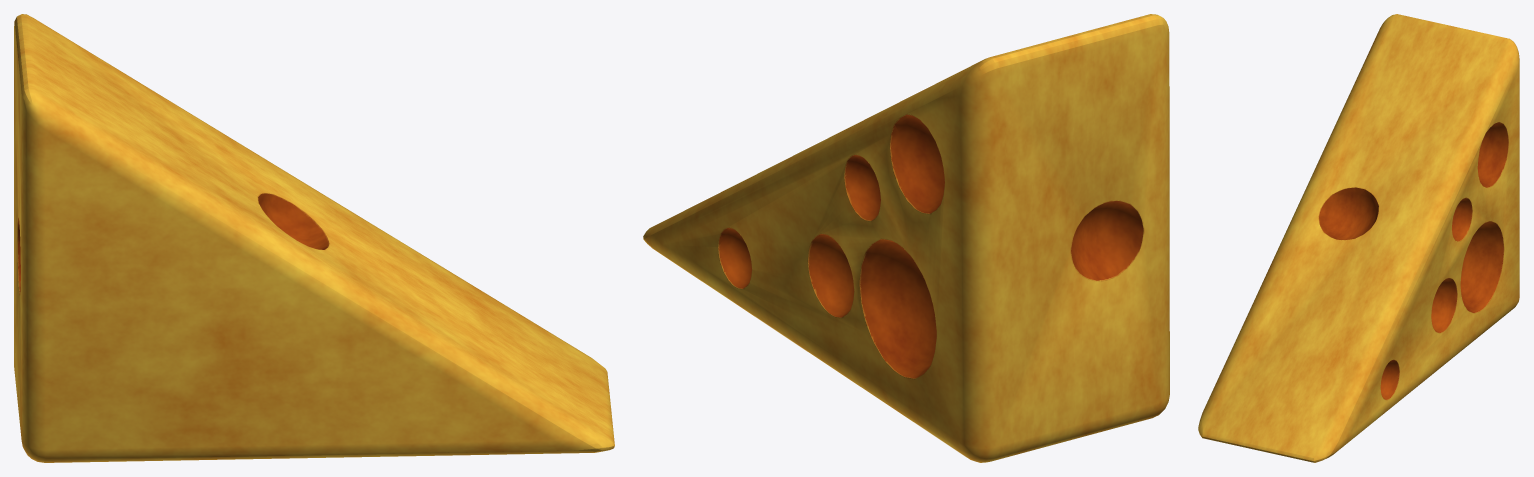
File: cheese_cocina.glb
3 renders of one model, left to right at view 1: azimuth 30°, elevation 25°; view 2: azimuth 150°, elevation 25°; view 3: azimuth 270°, elevation 25°, orthographic. The views are drawn at different scales.
Parts seen in each view (by area): view 1: cheese_cocina; view 2: cheese_cocina; view 3: cheese_cocina.
Part boxes in pixels (x1,y1,x2,y2): cheese_cocina: (14,14,614,462); cheese_cocina: (643,14,1169,462); cheese_cocina: (1198,14,1519,462).
Size of what is drawn, in the model's own units: 0.5447 by 0.3675 by 0.3996.
Materials: 1 (1 with a texture image).
